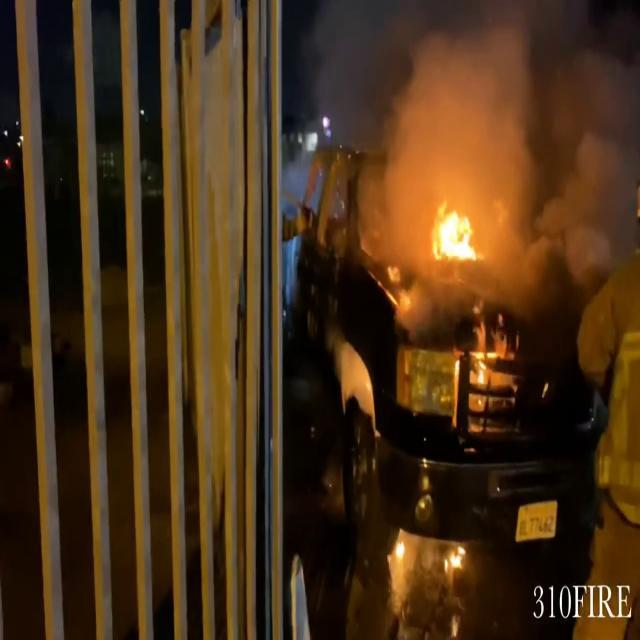Fire: (426, 195, 484, 265)
Smoke: (323, 1, 552, 251), (546, 25, 640, 326)
